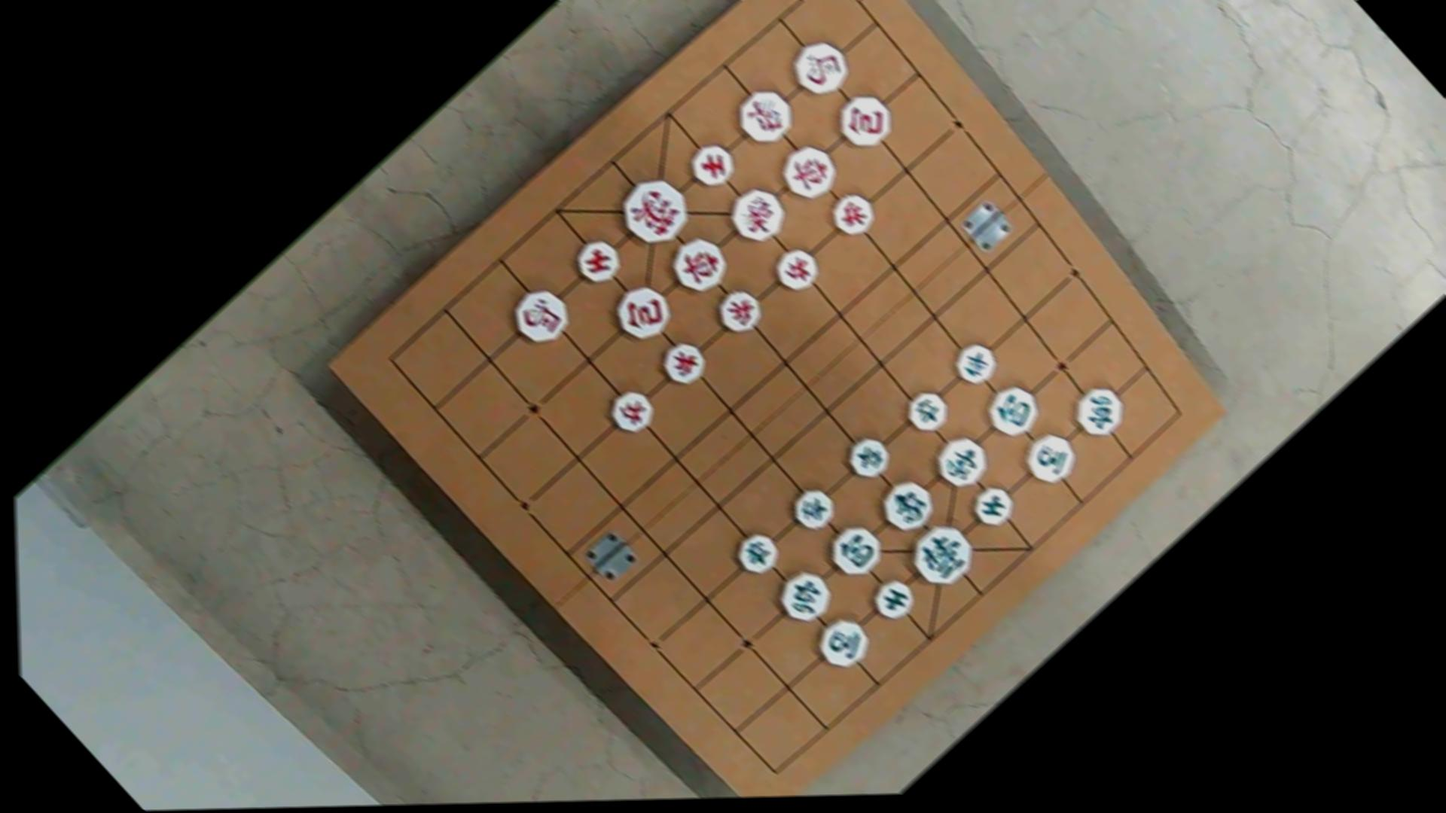cha_green: (766, 562, 839, 632), (1064, 379, 1131, 443)
cha_red: (661, 229, 736, 301), (771, 136, 844, 209)
jol_green: (947, 335, 1004, 391), (728, 526, 784, 582), (898, 384, 954, 439), (840, 430, 895, 485), (784, 482, 840, 536)
jol_red: (822, 185, 881, 243), (709, 282, 768, 340), (602, 382, 660, 440), (654, 334, 712, 392), (767, 241, 825, 297)
ma_green: (1014, 423, 1084, 492), (807, 609, 877, 677)
ma_red: (782, 32, 857, 105), (503, 279, 578, 352)
po_green: (818, 516, 891, 586), (977, 376, 1048, 446)
po_red: (604, 276, 679, 349), (827, 85, 900, 157)
sa_green: (864, 571, 921, 627), (964, 478, 1020, 532)
sa_red: (568, 232, 627, 290), (682, 137, 740, 193)
sang_green: (870, 470, 943, 540), (925, 426, 996, 497)
sang_red: (728, 81, 801, 152), (720, 179, 792, 250)
wang_green: (899, 513, 983, 595)
wang_red: (609, 167, 699, 257)
